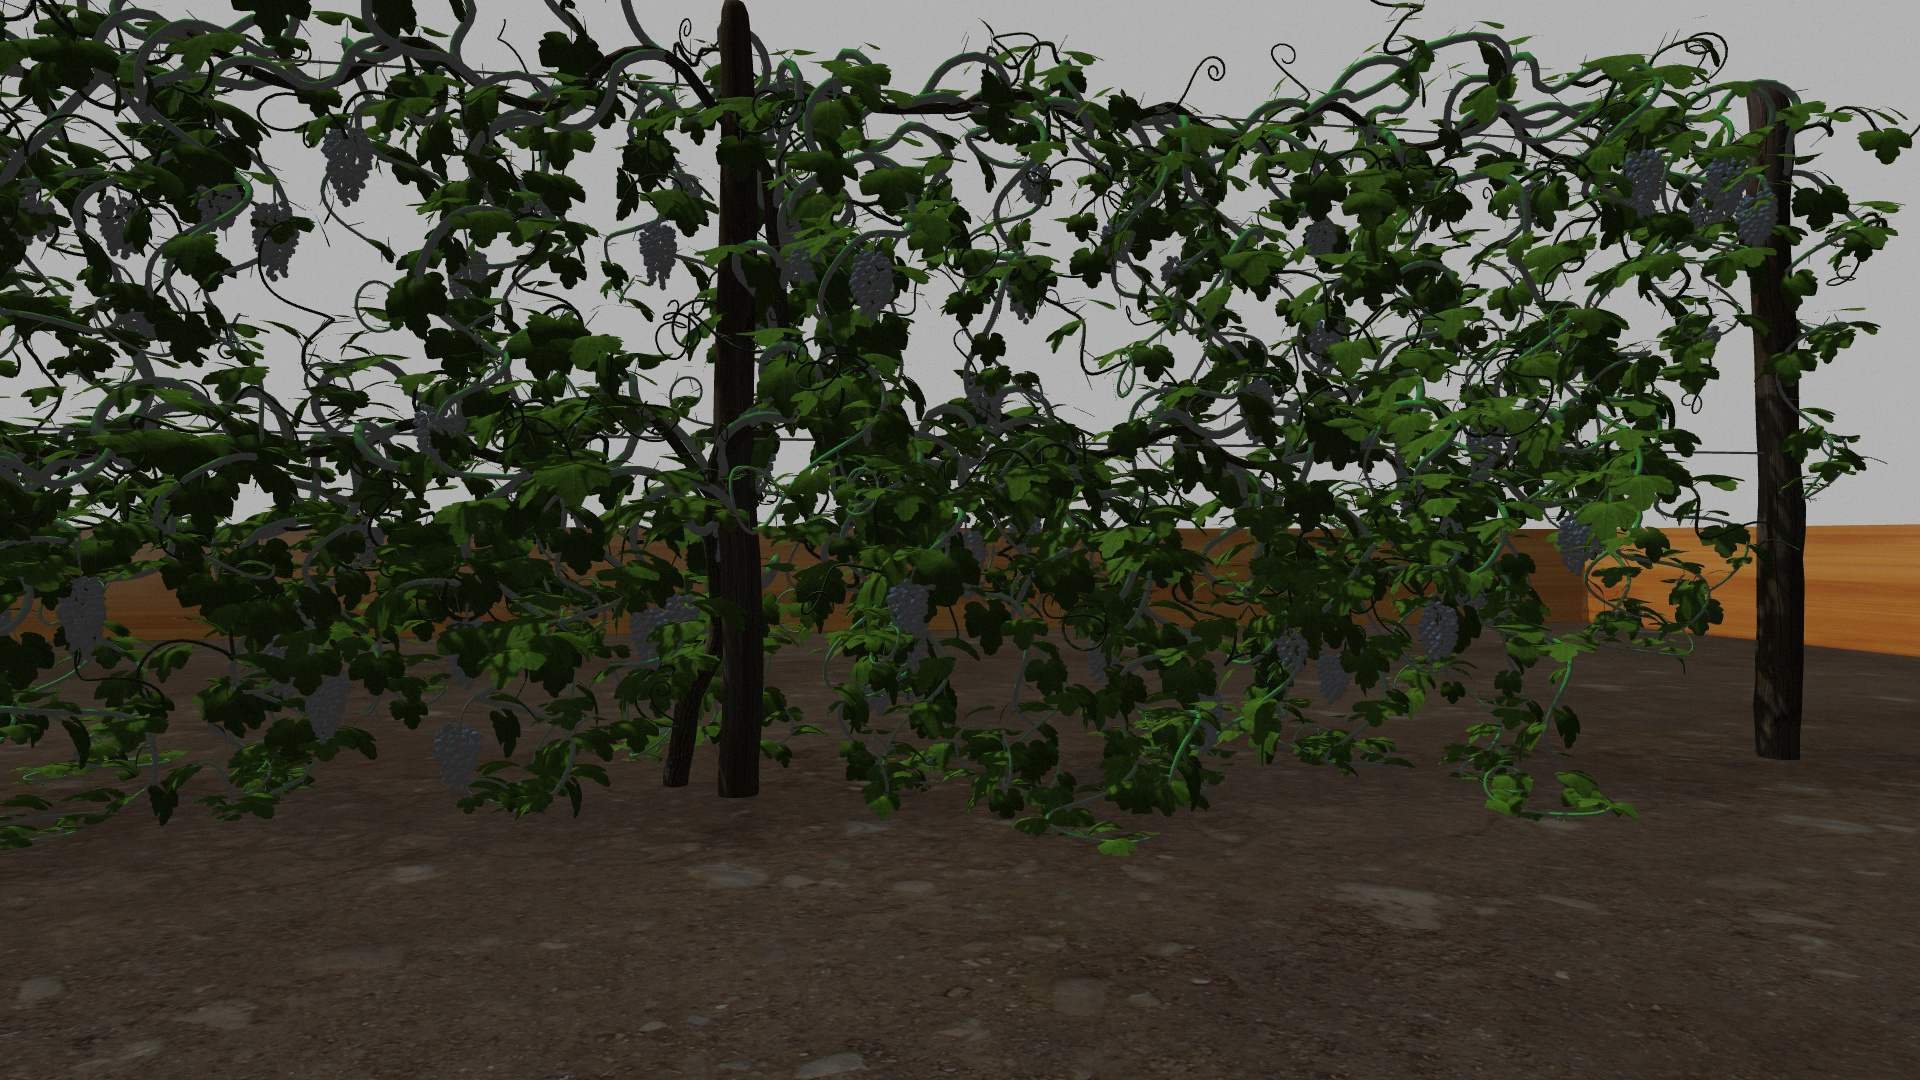grape: (55, 575, 108, 659), (320, 127, 375, 207), (251, 200, 299, 282), (433, 723, 483, 793), (305, 670, 351, 742), (849, 251, 894, 322), (411, 405, 465, 460), (98, 195, 142, 260), (638, 223, 678, 290), (1418, 599, 1458, 663), (1625, 149, 1663, 218), (1702, 156, 1747, 214), (1737, 187, 1778, 249), (887, 578, 932, 632), (1557, 516, 1596, 575), (196, 185, 240, 233), (968, 375, 1007, 426), (1316, 650, 1352, 704), (1307, 320, 1342, 371), (630, 608, 665, 659), (1278, 630, 1308, 676), (1085, 641, 1118, 683), (663, 593, 700, 628), (1305, 220, 1338, 257), (1021, 165, 1050, 204), (790, 247, 816, 282), (1160, 255, 1189, 280)
